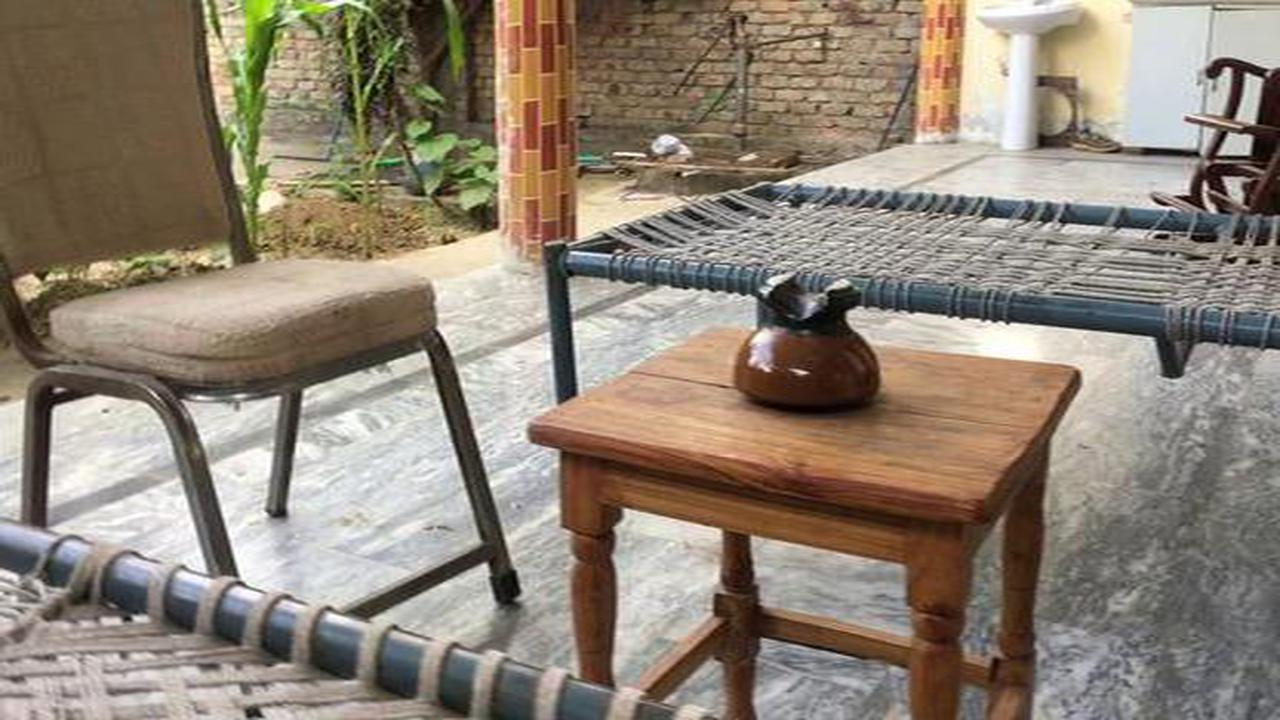insulator_pin: (724, 265, 893, 418)
